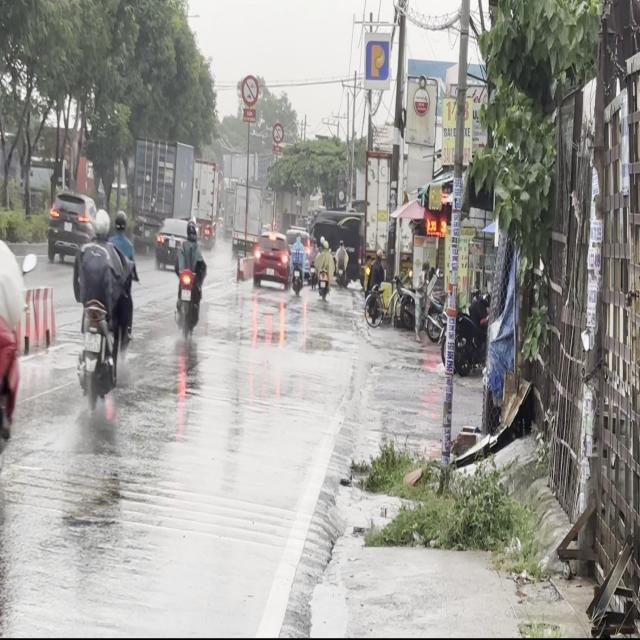helmet: (92, 208, 110, 238)
licenseplate: (72, 205, 134, 411)
nohelmet: (83, 331, 101, 352)
